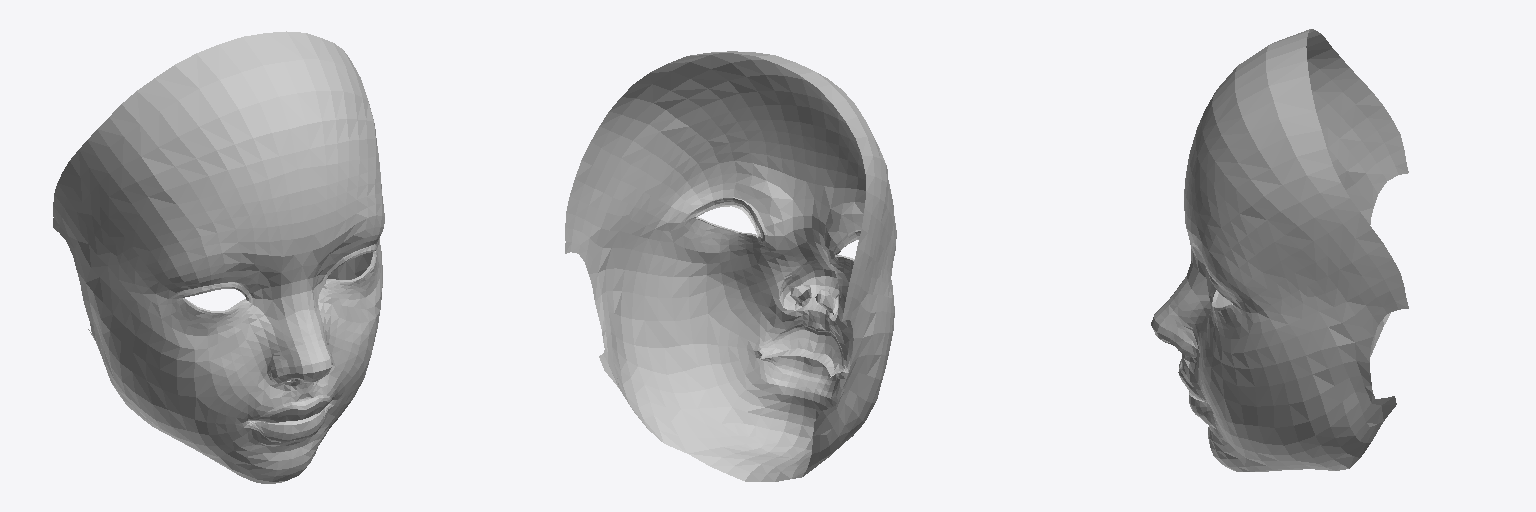
The model's file is zoe.g8.3.41.facemesh.obj.
3 renders of one model, left to right at view 1: azimuth 30°, elevation 25°; view 2: azimuth 150°, elevation 25°; view 3: azimuth 270°, elevation 25°, orthographic.
Parts seen in each view (by area): view 1: zoe.g8.3.40.模型正确但是顶点顺序错误面片.锁; view 2: zoe.g8.3.40.模型正确但是顶点顺序错误面片.锁; view 3: zoe.g8.3.40.模型正确但是顶点顺序错误面片.锁.
Boxes of the visible parts, <box> form: zoe.g8.3.40.模型正确但是顶点顺序错误面片.锁: <box>53,31,384,483</box>; zoe.g8.3.40.模型正确但是顶点顺序错误面片.锁: <box>565,51,896,481</box>; zoe.g8.3.40.模型正确但是顶点顺序错误面片.锁: <box>1151,29,1408,471</box>.
Bounding box in the file's own units: 15.44 × 21.79 × 12.16.